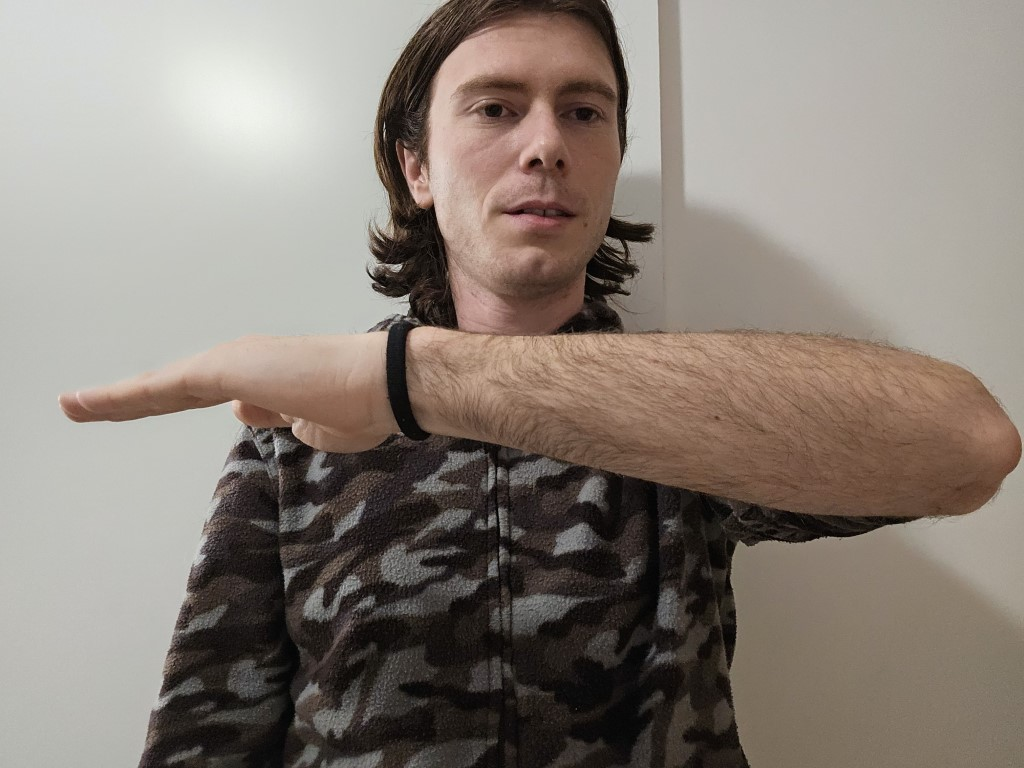space: (39, 319, 1024, 531)
